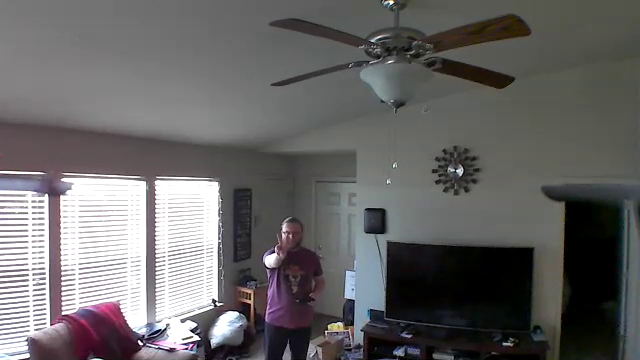peace: (271, 227, 295, 264)
